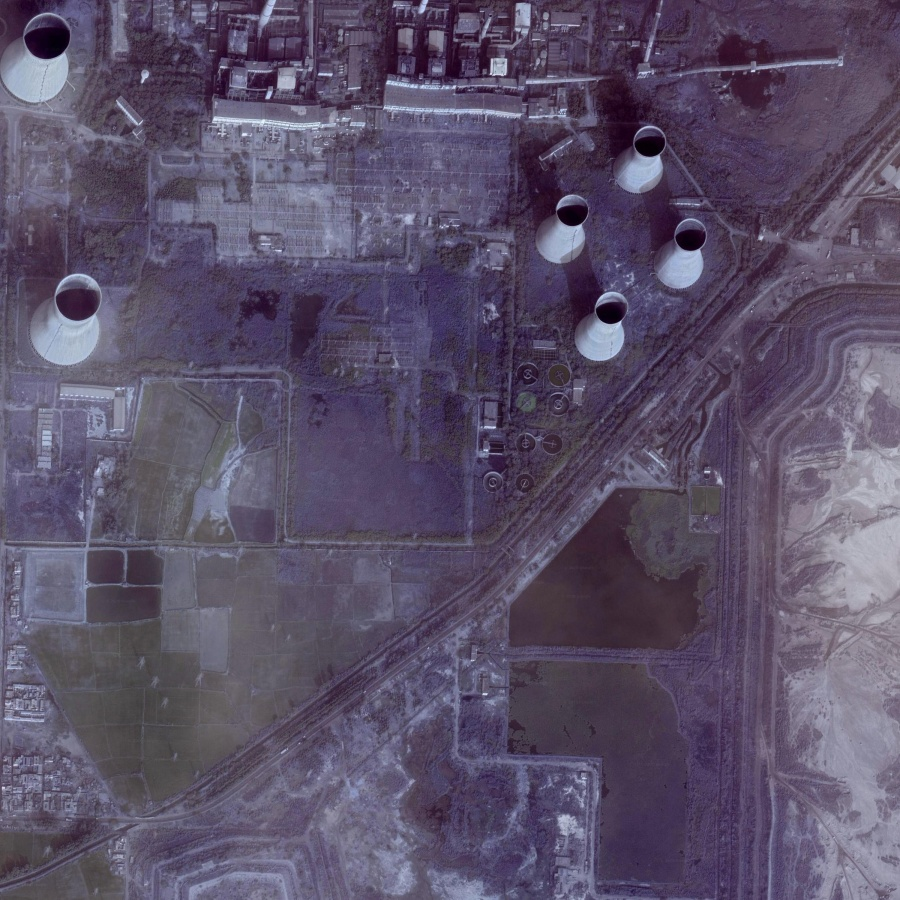PowerPlant: (10, 261, 254, 535)
